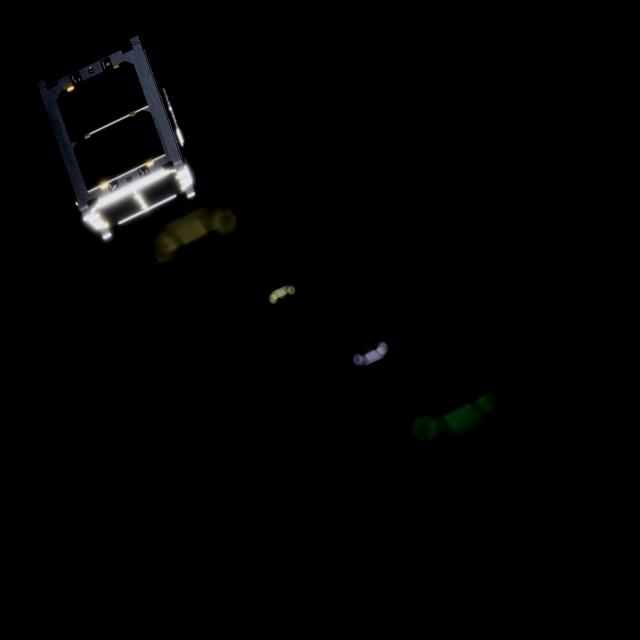medium_debris: (33, 33, 200, 244)
